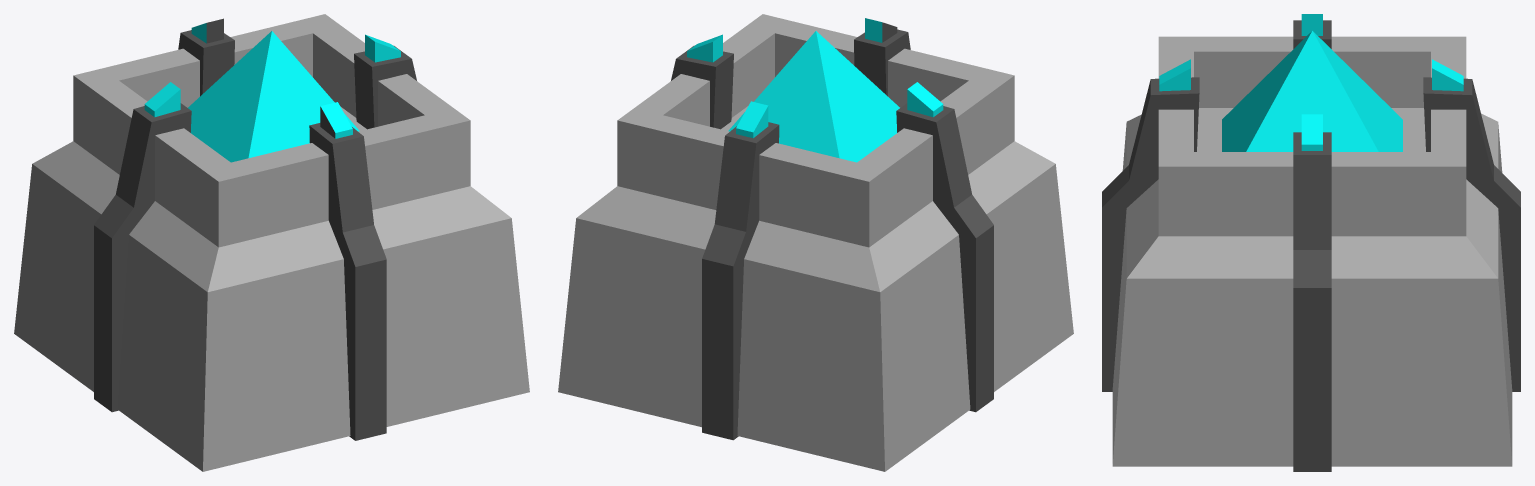
Rendered from Fort.fbx.
3 renders of one model, left to right at view 1: azimuth 30°, elevation 25°; view 2: azimuth 150°, elevation 25°; view 3: azimuth 270°, elevation 25°, orthographic. The views are drawn at different scales.
Parts seen in each view (by area): view 1: Fort; view 2: Fort; view 3: Fort.
Part boxes in pixels (left/top/right/bottom): Fort: left=14, top=14, right=529, bottom=471; Fort: left=558, top=14, right=1073, bottom=471; Fort: left=1102, top=14, right=1520, bottom=471.
Bounding box in the file's own units: 468 × 439 × 472.
